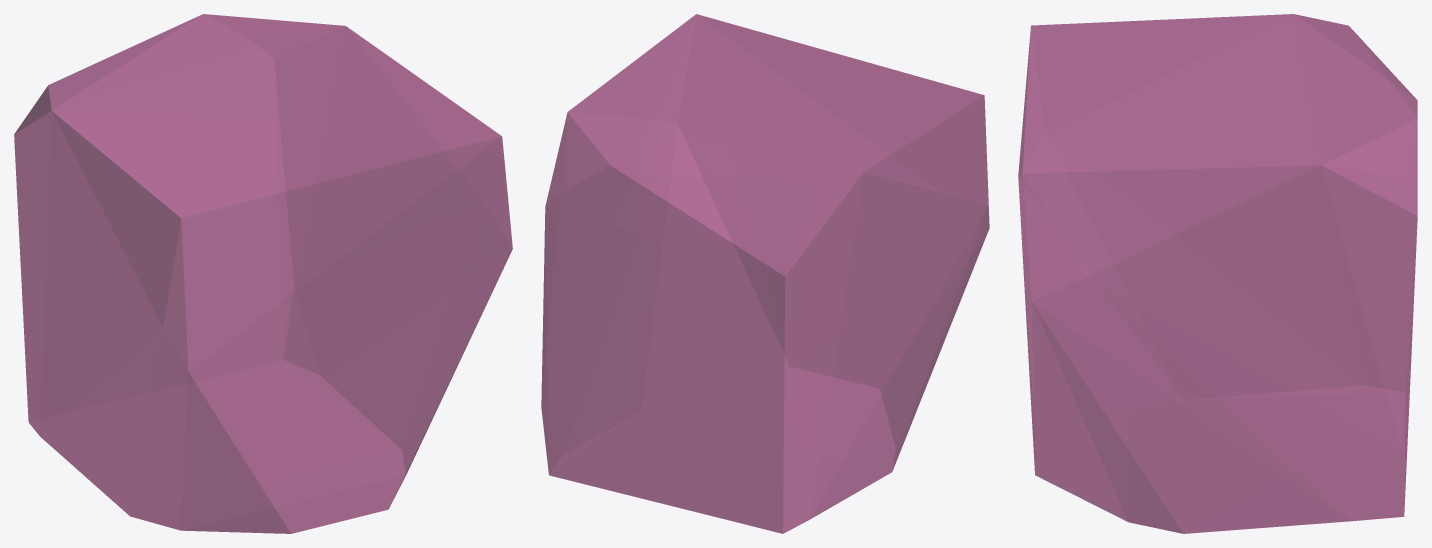
3 renders of one model, left to right at view 1: azimuth 30°, elevation 25°; view 2: azimuth 150°, elevation 25°; view 3: azimuth 270°, elevation 25°, orthographic. The views are drawn at different scales.
Visible parts, largest first — view 1: Shape_IndexedFaceSet.007_Shape_IndexedFaceSet.18160; view 2: Shape_IndexedFaceSet.007_Shape_IndexedFaceSet.18160; view 3: Shape_IndexedFaceSet.007_Shape_IndexedFaceSet.18160.
Part boxes in pixels (left/top/right/bottom): Shape_IndexedFaceSet.007_Shape_IndexedFaceSet.18160: left=14, top=14, right=512, bottom=533; Shape_IndexedFaceSet.007_Shape_IndexedFaceSet.18160: left=541, top=14, right=989, bottom=533; Shape_IndexedFaceSet.007_Shape_IndexedFaceSet.18160: left=1018, top=14, right=1417, bottom=533.
Size of the model in its own units: 0.2182 by 0.2256 by 0.2182.
